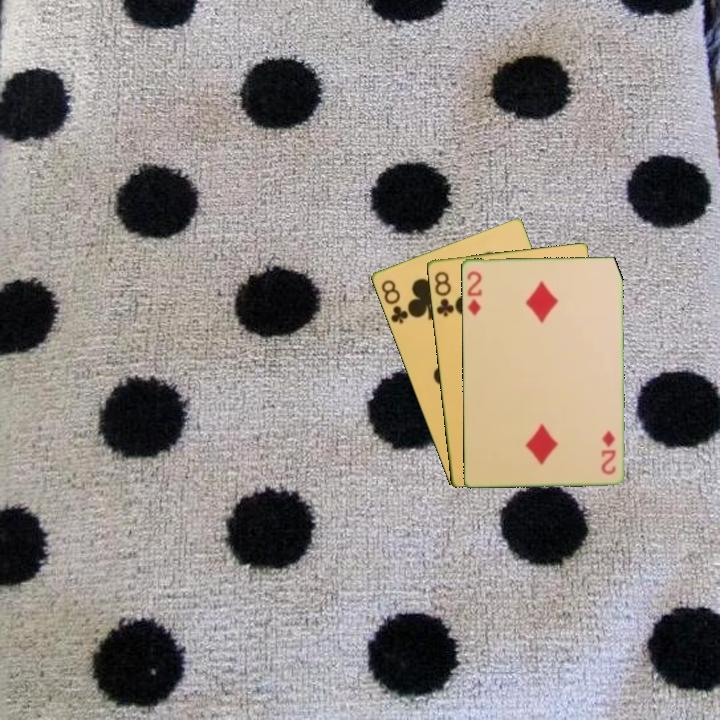2d: (463, 267, 484, 318), (598, 427, 618, 477)
8c: (377, 276, 411, 327), (431, 268, 456, 319)
